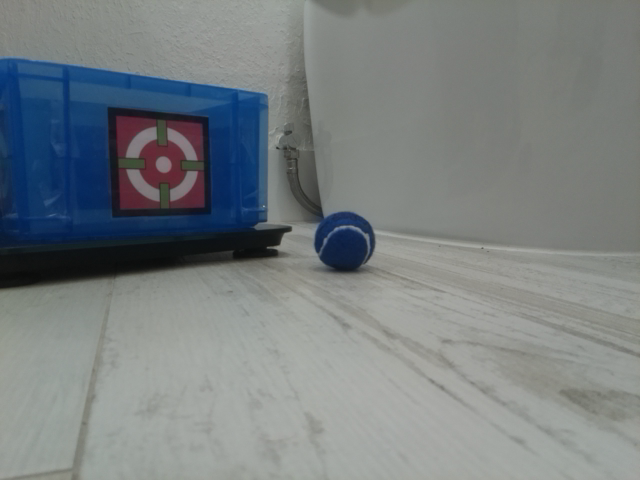blue-ball: (314, 210, 377, 273)
drop-bin: (107, 107, 212, 217)
